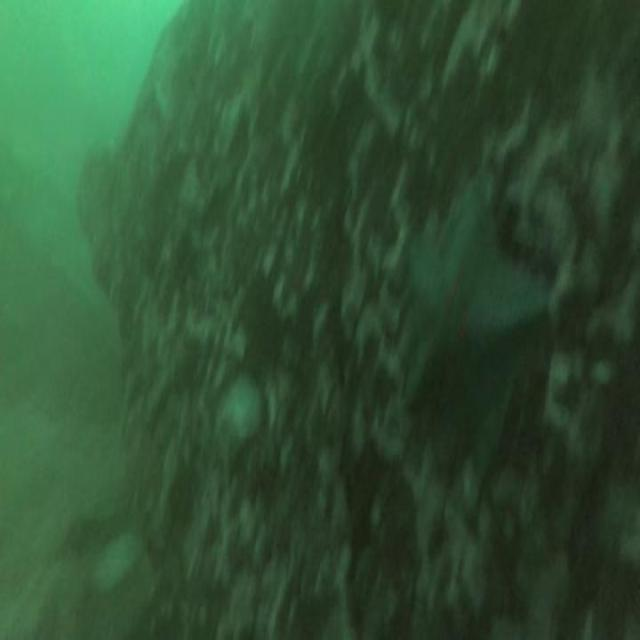starfish: (397, 178, 543, 424)
